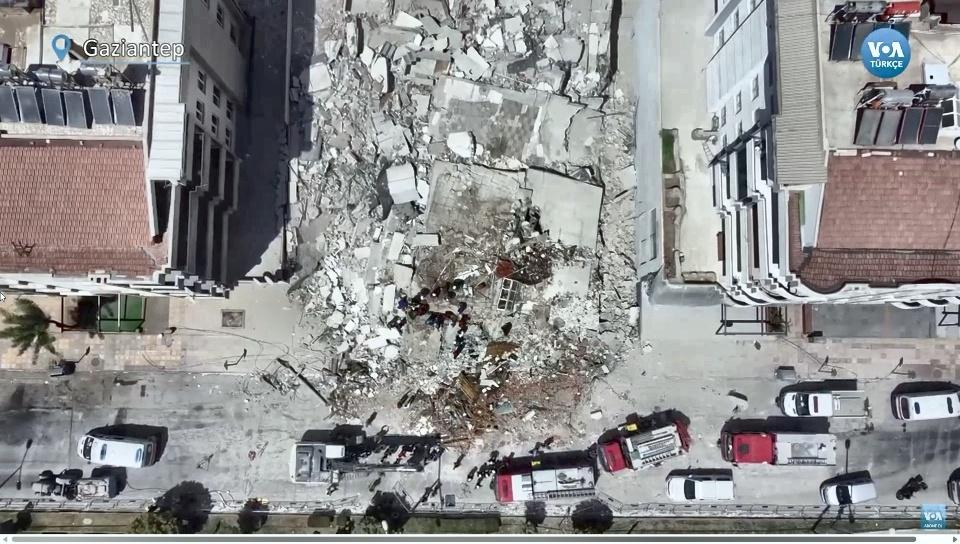kapali: (259, 377, 683, 514)
